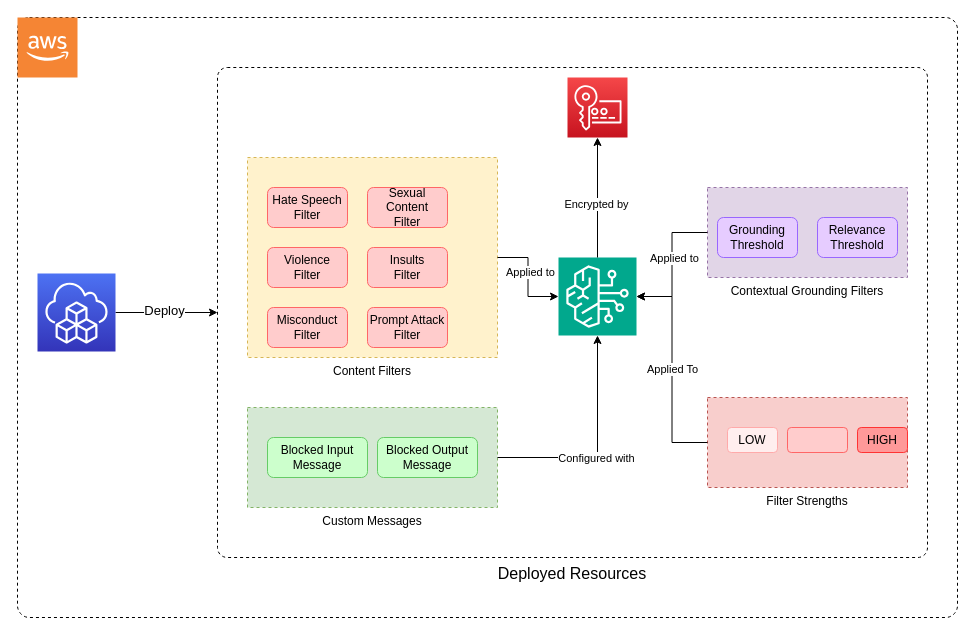
Image size: 975x635. Some labels were removed from this diagram. The centre of each missing label's shape, as x and y in pixels:
"Bedrock Guardrail" belongs at (597,296).
"Deployment/Target Account" belongs at (47,47).
"KMS Key" belongs at (597,107).
"MDAA/CDK" belongs at (76,312).
"MEDIUM" belongs at (817,439).
